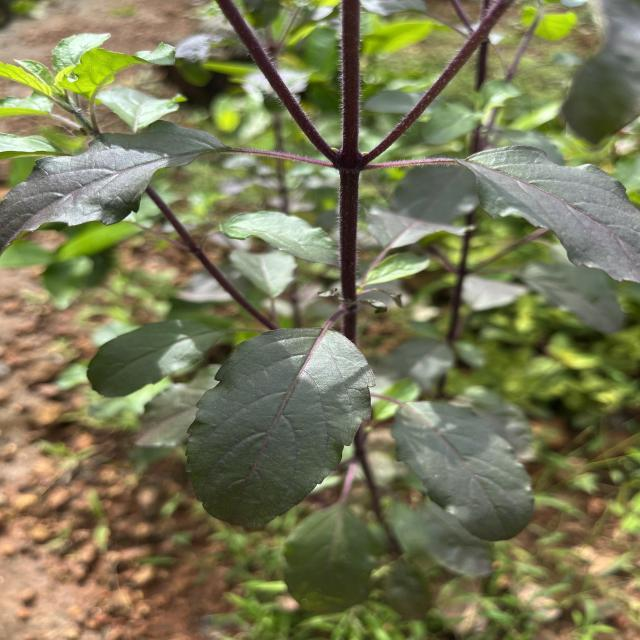Ocimum tenuiflorum: (184, 326, 378, 534)
